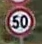limite 50: (4, 6, 35, 36)
